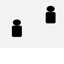human: (44, 4, 57, 24), (10, 18, 23, 37)
